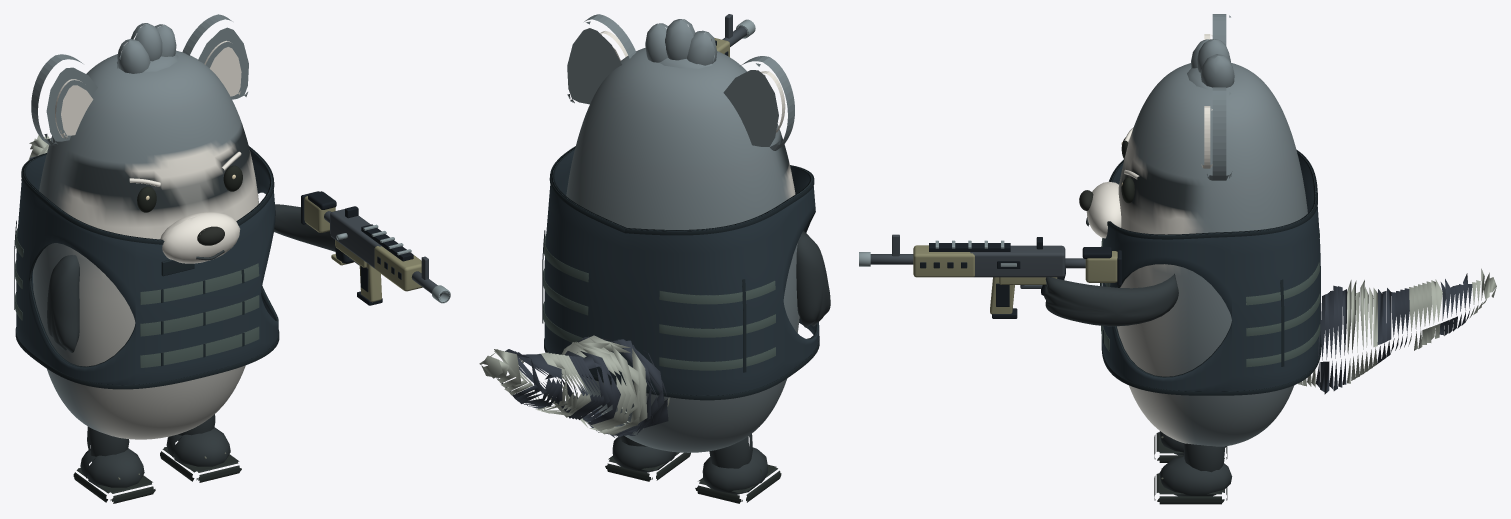
File: species-grips-raccoon-aim-preview.glb
3 renders of one model, left to right at view 1: azimuth 30°, elevation 25°; view 2: azimuth 150°, elevation 25°; view 3: azimuth 270°, elevation 25°, orthographic. The views are drawn at different scales.
Visible parts, largest first — view 1: raccoon_torso_mesh, raccoon_vest_refined_mesh, raccoon_leftFoot_mesh, raccoon_leftEar_mesh, raccoon_snout_mesh, raccoon_rightFoot_mesh, raccoon_rightEar_mesh, prop_m4_m4 painted furniture, raccoon_leftArm_mesh, raccoon_crestShort_mesh, prop_m4_Cerakote graphite, prop_m4_Recesses and rubber (+2 smaller); view 2: raccoon_vest_refined_mesh, raccoon_torso_mesh, raccoon_tail_mesh, raccoon_leftEar_mesh, raccoon_leftFoot_mesh, raccoon_rightEar_mesh, raccoon_crestShort_mesh, raccoon_leftArm_mesh, raccoon_rightFoot_mesh, prop_m4_Cerakote graphite; view 3: raccoon_torso_mesh, raccoon_vest_refined_mesh, raccoon_tail_mesh, raccoon_rightArm_mesh, raccoon_rightFoot_mesh, prop_m4_Cerakote graphite, prop_m4_m4 painted furniture, prop_m4_Recesses and rubber, raccoon_rightEar_mesh, raccoon_crestShort_mesh, raccoon_snout_mesh, raccoon_leftFoot_mesh.
Boxes of the visible parts, box(x1,y1,x2,y2) form: raccoon_torso_mesh: box(33, 50, 258, 439); raccoon_vest_refined_mesh: box(14, 146, 279, 389); raccoon_leftFoot_mesh: box(73, 426, 155, 503); raccoon_leftEar_mesh: box(31, 54, 97, 145); raccoon_snout_mesh: box(160, 212, 240, 263); raccoon_rightFoot_mesh: box(160, 414, 241, 482); raccoon_rightEar_mesh: box(182, 14, 248, 99); prop_m4_m4 painted furniture: box(304, 196, 422, 302); raccoon_leftArm_mesh: box(47, 255, 79, 352); raccoon_crestShort_mesh: box(117, 23, 178, 73); prop_m4_Cerakote graphite: box(324, 209, 442, 295); prop_m4_Recesses and rubber: box(301, 191, 413, 305); raccoon_vest_refined_mesh: box(542, 146, 819, 400); raccoon_torso_mesh: box(566, 47, 799, 452); raccoon_tail_mesh: box(479, 335, 669, 437); raccoon_leftEar_mesh: box(723, 56, 794, 150); raccoon_leftFoot_mesh: box(695, 434, 781, 503); raccoon_rightEar_mesh: box(567, 14, 636, 104); raccoon_crestShort_mesh: box(645, 19, 717, 68); raccoon_leftArm_mesh: box(796, 230, 830, 327); raccoon_rightFoot_mesh: box(605, 435, 690, 481); prop_m4_Cerakote graphite: box(722, 14, 747, 46); raccoon_torso_mesh: box(1117, 63, 1307, 446); raccoon_vest_refined_mesh: box(1100, 149, 1321, 395); raccoon_tail_mesh: box(1298, 268, 1496, 394); raccoon_rightArm_mesh: box(1044, 273, 1178, 326); raccoon_rightFoot_mesh: box(1154, 443, 1232, 504); prop_m4_Cerakote graphite: box(870, 234, 1085, 288); prop_m4_m4 painted furniture: box(913, 245, 1117, 314); prop_m4_Recesses and rubber: box(920, 237, 1121, 318); raccoon_rightEar_mesh: box(1201, 87, 1232, 180); raccoon_crestShort_mesh: box(1187, 39, 1236, 89); raccoon_snout_mesh: box(1079, 181, 1121, 238); raccoon_leftFoot_mesh: box(1154, 431, 1227, 462).
Size of the model in its own units: 1.25 by 1.98 by 2.62.
